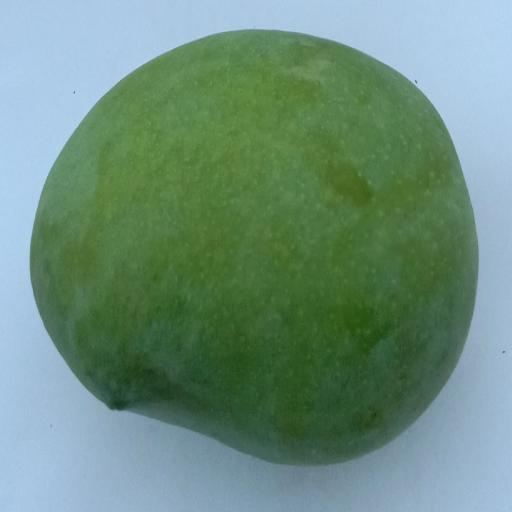mango-unripe: (25, 11, 496, 489)
